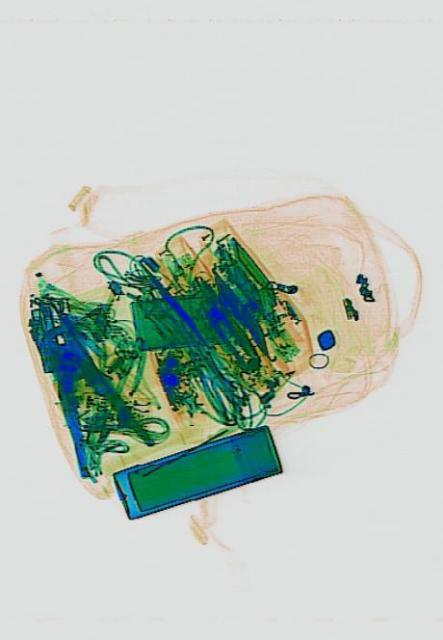Pliers: (21, 298, 153, 492)
